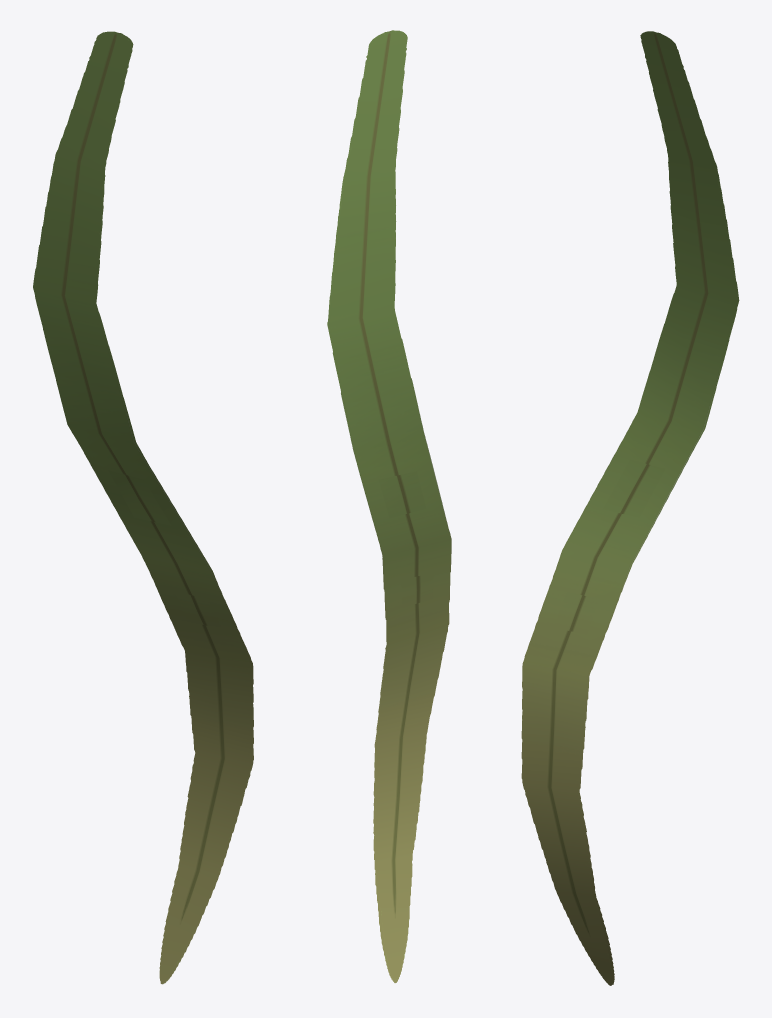
Rendered from Seaweed_Base_03.fbx.
The picture shows the model from 3 angles, left to right: view 1: azimuth 90°, elevation 25°; view 2: azimuth 150°, elevation 25°; view 3: azimuth 270°, elevation 25°; orthographic projection. The views are drawn at different scales.
Visible parts, largest first — view 1: pPlane5; view 2: pPlane5; view 3: pPlane5.
Part boxes in pixels (x1,y1,x2,y2): pPlane5: (33, 31, 253, 984); pPlane5: (327, 30, 451, 983); pPlane5: (521, 31, 739, 985).
Size of the model in its own units: 0.4318 by 4.05 by 1.
Materials: 1 (1 with a texture image).
